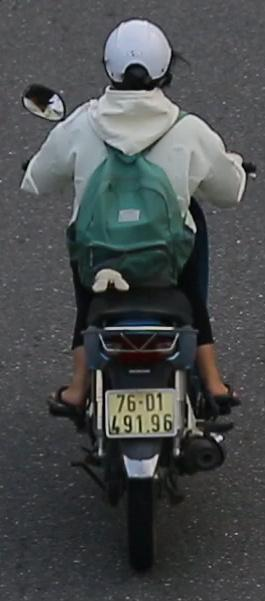LP: (101, 382, 180, 440)
helmet: (101, 16, 177, 101)
